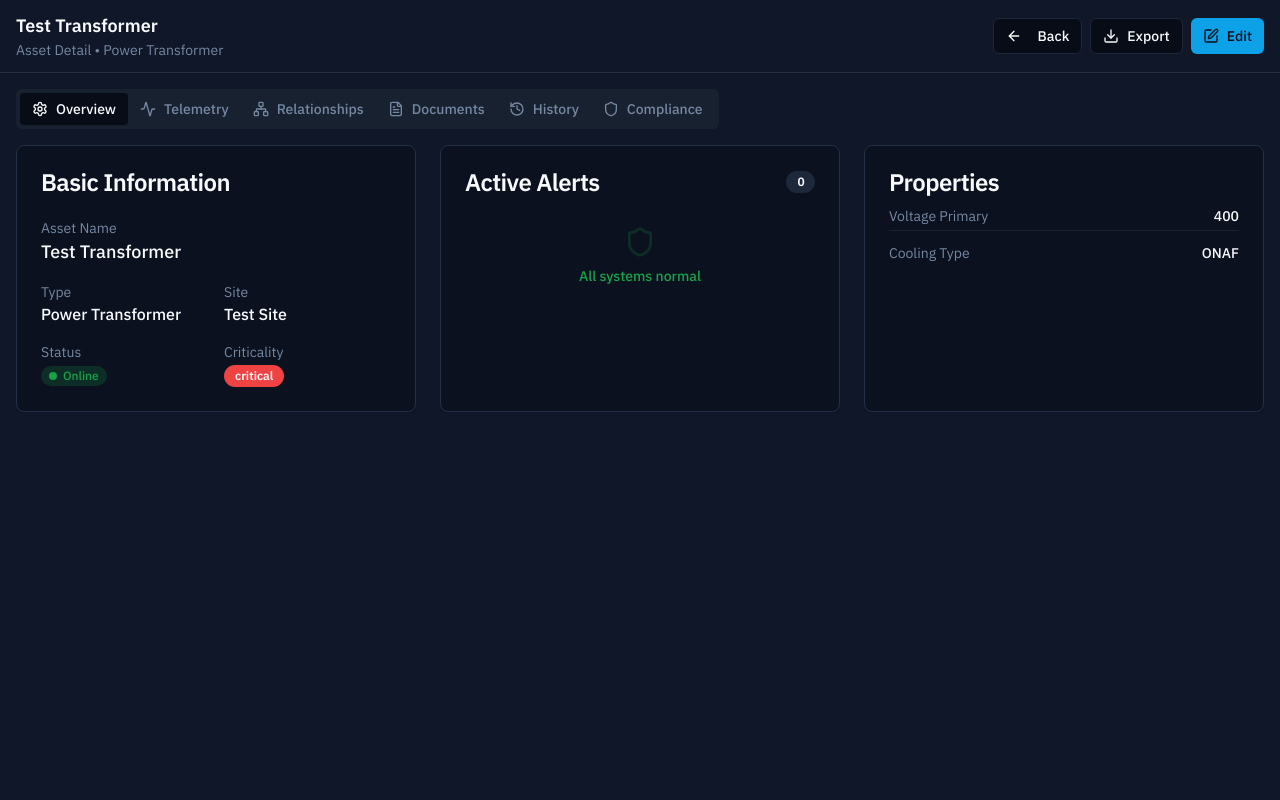
Test: TransmissionAssetDetailPage - Property Editing › displays validation error for invalid numeric input
This screenshot has width=1280, height=800.
Click the button "Edit" at (1227, 36), box [1191, 18, 1264, 54]
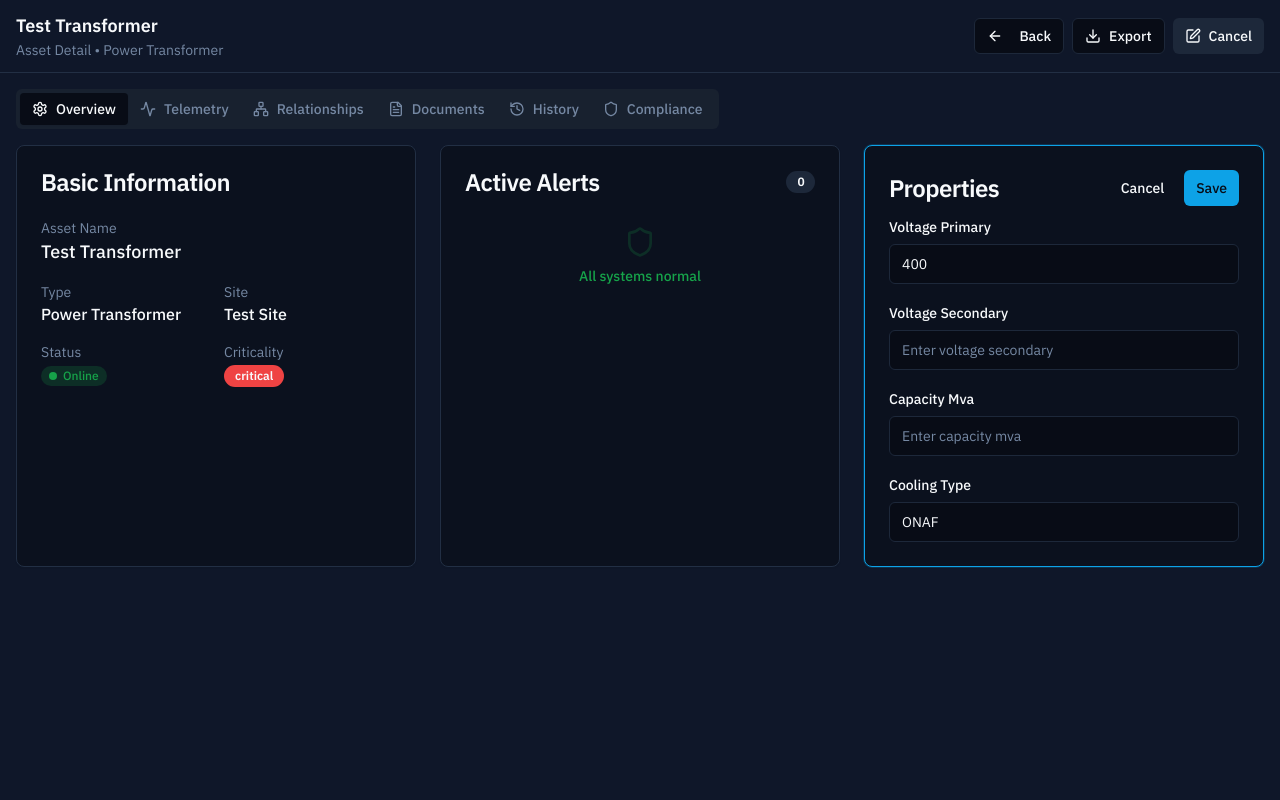
Note: Wait for the input to appear
Replace the text in the field labelled "voltage primary" with "not-a-number" at (1064, 264), box [889, 244, 1239, 284]
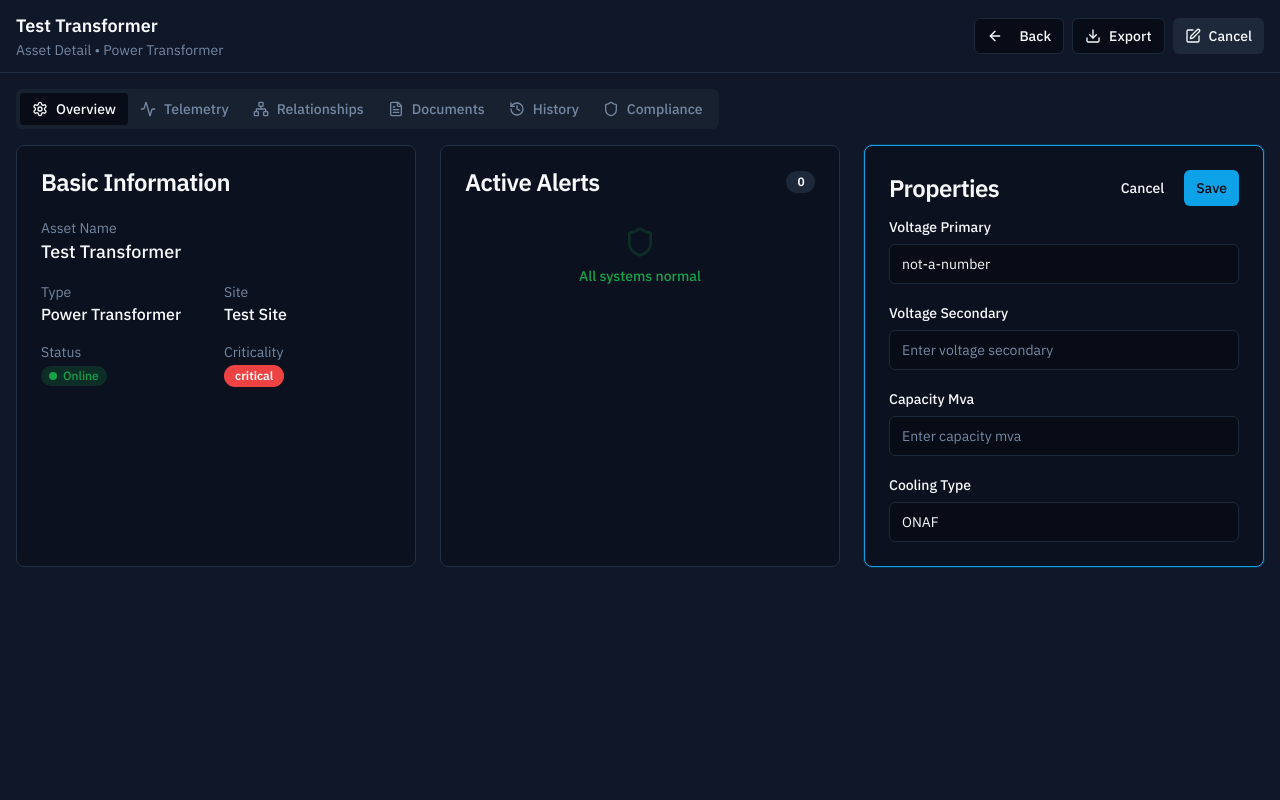
Click the button "Save" at (1212, 188), box [1184, 170, 1239, 206]
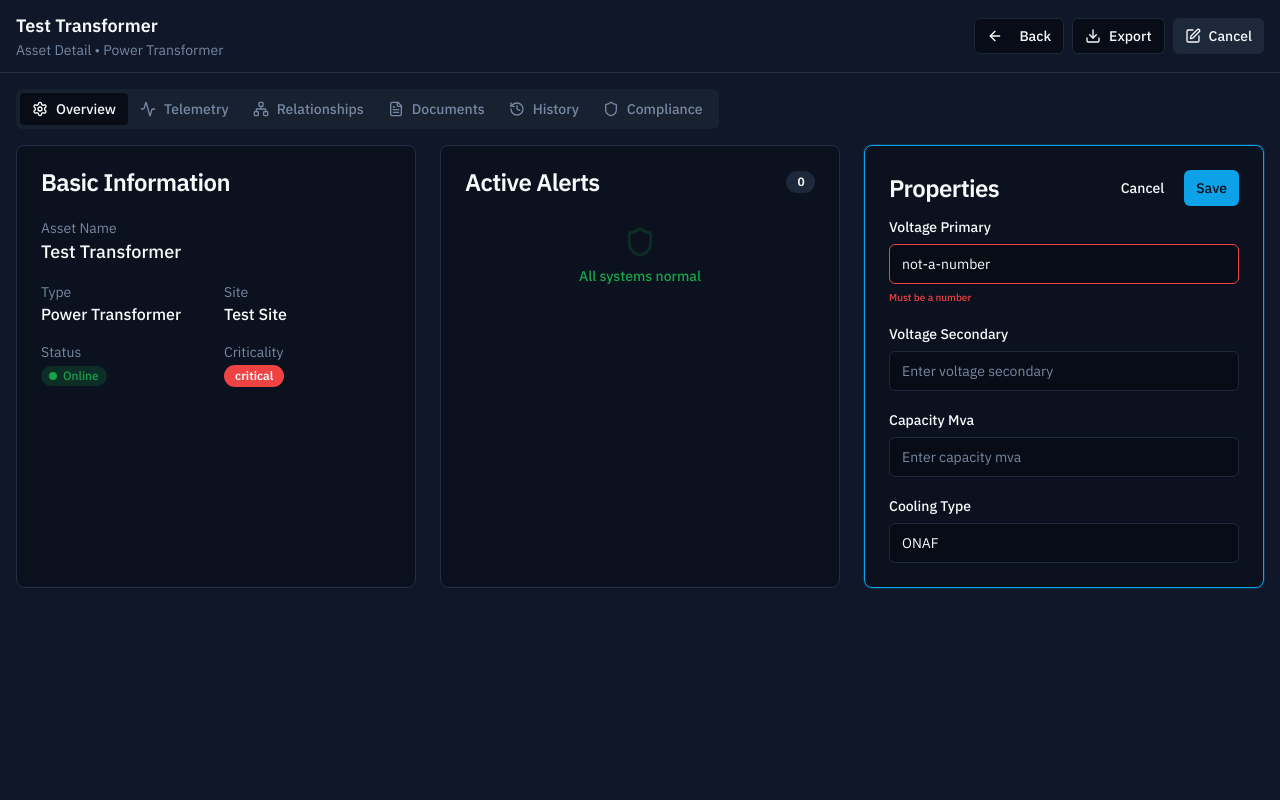
Check: the text "Must be a number" is shown, box [889, 291, 971, 304]
